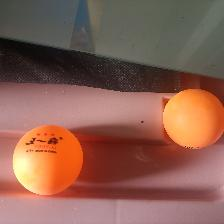YellowBall: (12, 125, 87, 195), (163, 88, 224, 151)
